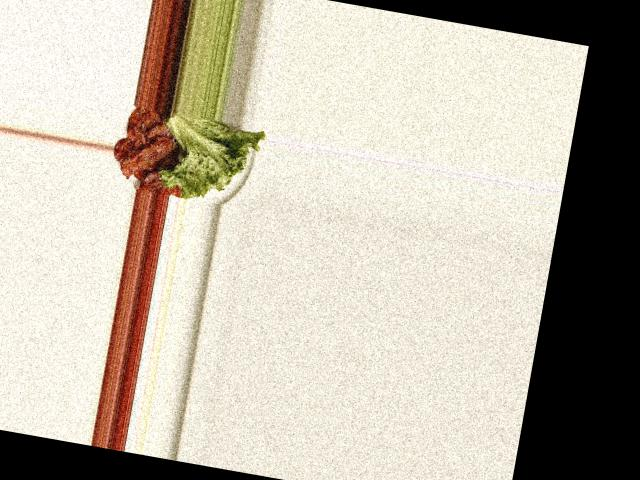lettuce: (156, 111, 262, 207)
